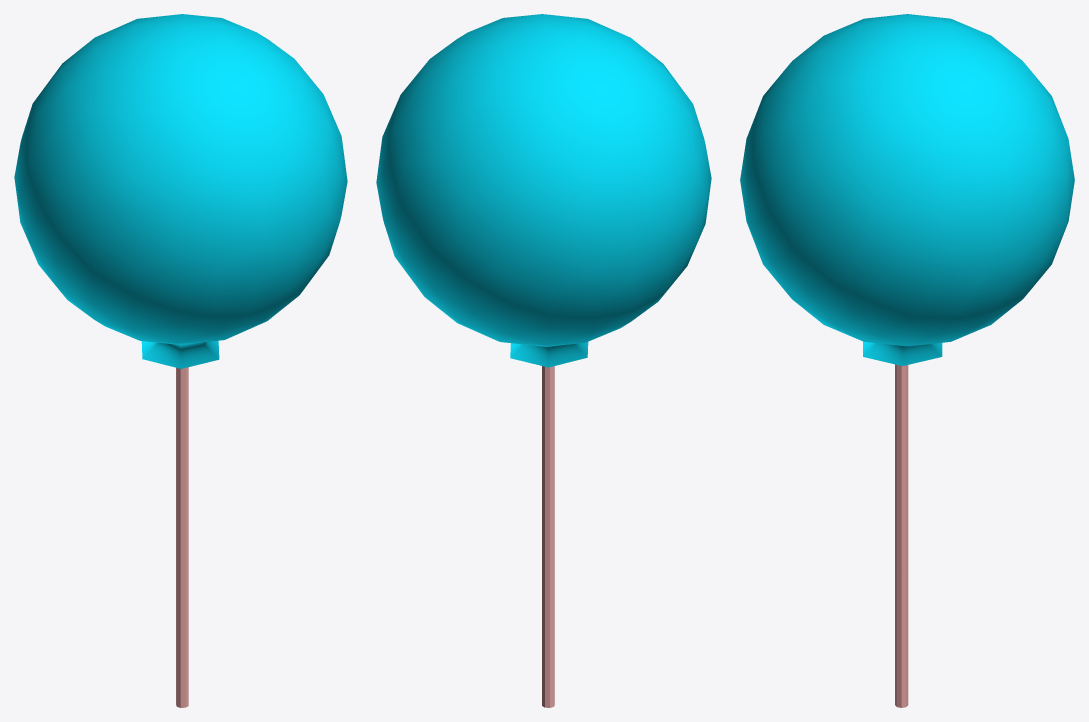
The model's file is sharik_blue 1.fbx.
3 renders of one model, left to right at view 1: azimuth 30°, elevation 25°; view 2: azimuth 150°, elevation 25°; view 3: azimuth 270°, elevation 25°, orthographic.
Parts seen in each view (by area): view 1: sharik_blue, Cylinder, Cone; view 2: sharik_blue, Cylinder, Cone; view 3: sharik_blue, Cylinder, Cone.
Part boxes in pixels (x1=…): sharik_blue: x1=14, y1=14, x2=347, y2=344; Cylinder: x1=176, y1=367, x2=188, y2=707; Cone: x1=141, y1=340, x2=219, y2=368; sharik_blue: x1=376, y1=14, x2=711, y2=346; Cylinder: x1=542, y1=366, x2=554, y2=707; Cone: x1=510, y1=342, x2=588, y2=367; sharik_blue: x1=740, y1=14, x2=1074, y2=346; Cylinder: x1=895, y1=364, x2=908, y2=707; Cone: x1=863, y1=341, x2=942, y2=365.
Bounding box in the file's own units: 100 × 223 × 100.
